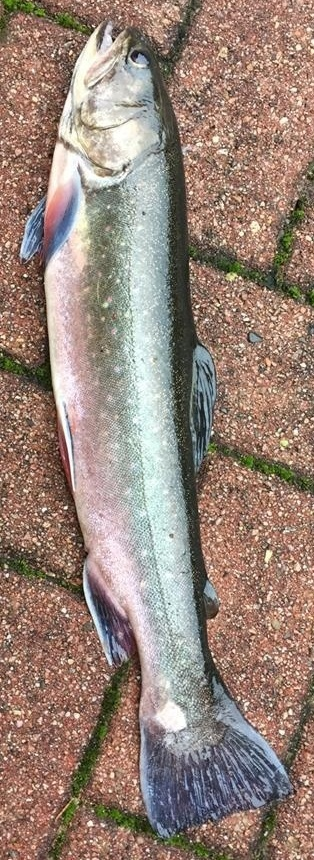Salmo trutta subsp. fario: (20, 20, 294, 840)
